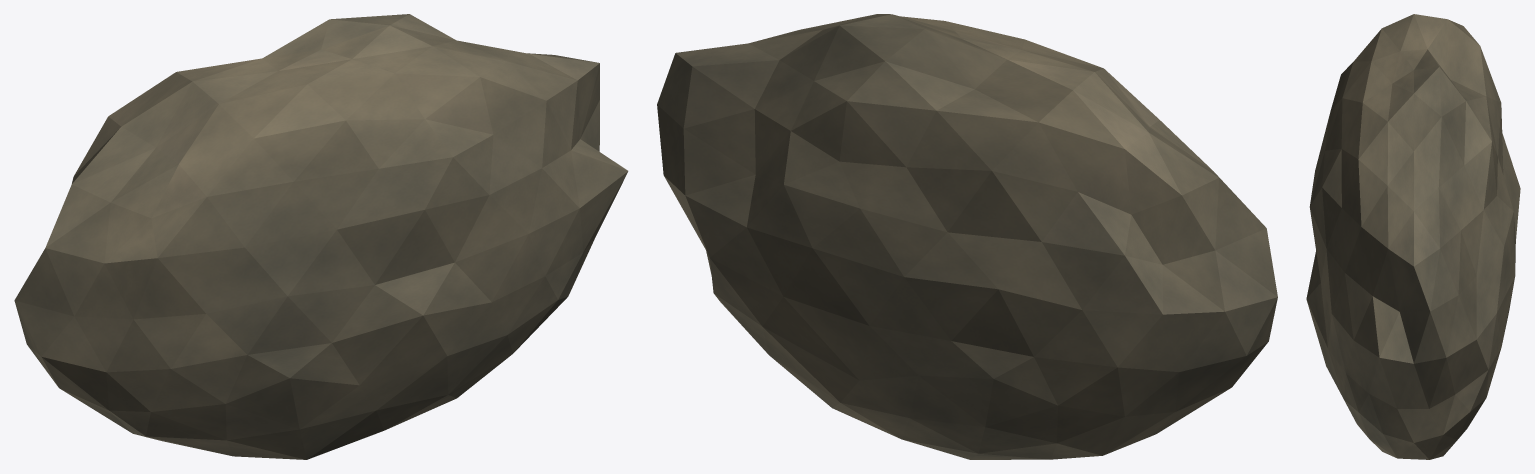
The model's file is prop_rock_cliff.glb.
3 views of the same model, side by side, from view 1: azimuth 30°, elevation 25°; view 2: azimuth 150°, elevation 25°; view 3: azimuth 270°, elevation 25° (orthographic). The views are drawn at different scales.
Visible parts, largest first — view 1: rock__Fractured_cliff; view 2: rock__Fractured_cliff; view 3: rock__Fractured_cliff.
Boxes of the visible parts, x1,y1,x2,y2 form: rock__Fractured_cliff: [14, 14, 628, 459]; rock__Fractured_cliff: [657, 14, 1277, 459]; rock__Fractured_cliff: [1306, 14, 1520, 459].
Bounding box in the file's own units: 9.06 × 5.96 × 3.13.
1 material, 1 textured.
